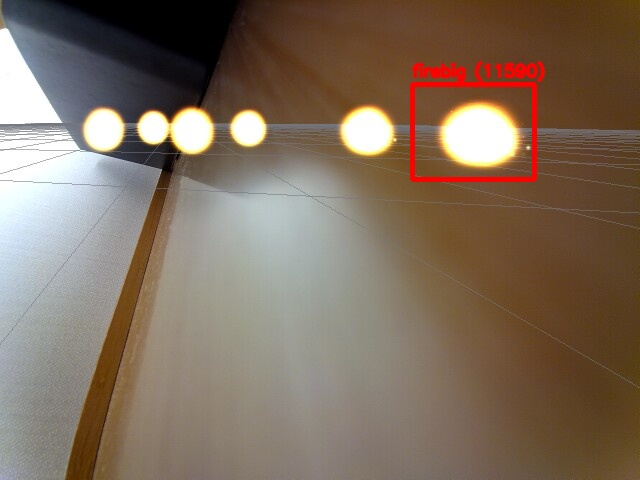firebig: (412, 84, 534, 179)
